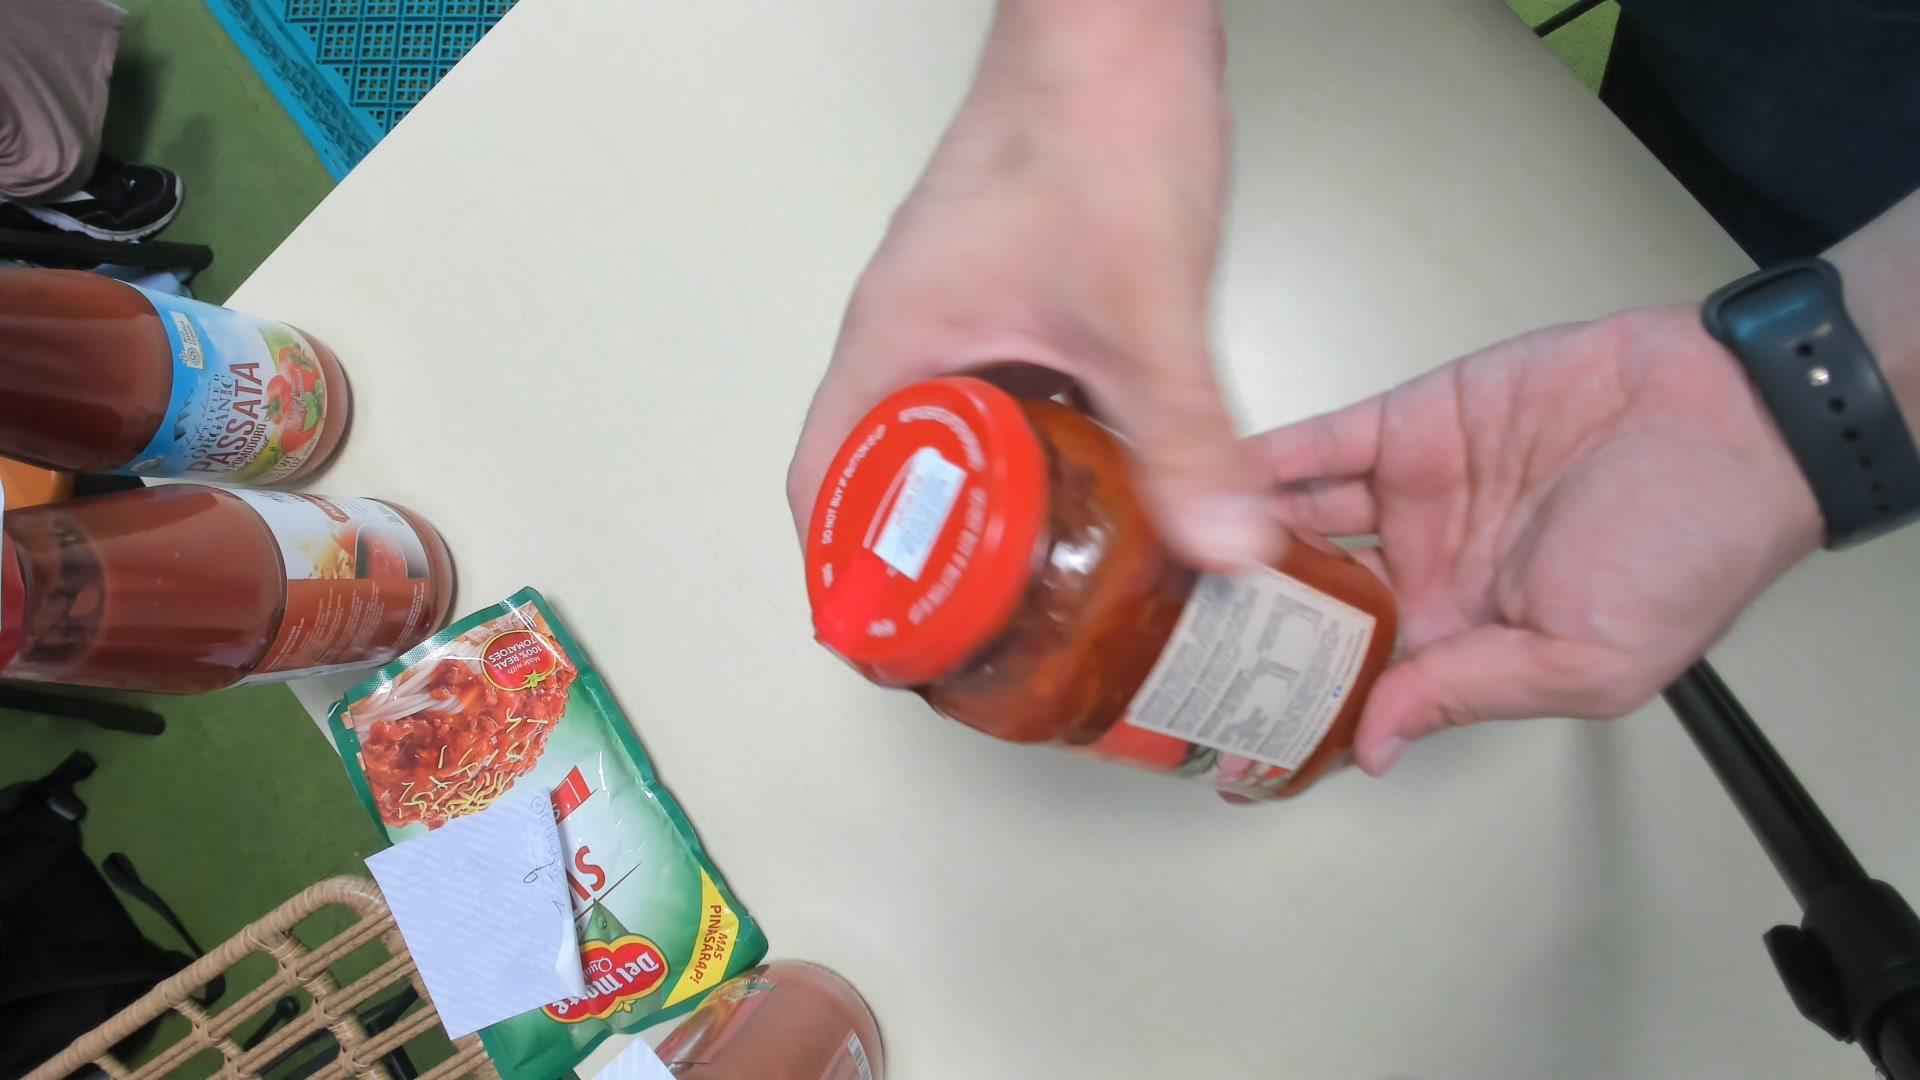PastaSauce_500-599g_NonHalal_NonHealthy: (808, 375, 1393, 802)
